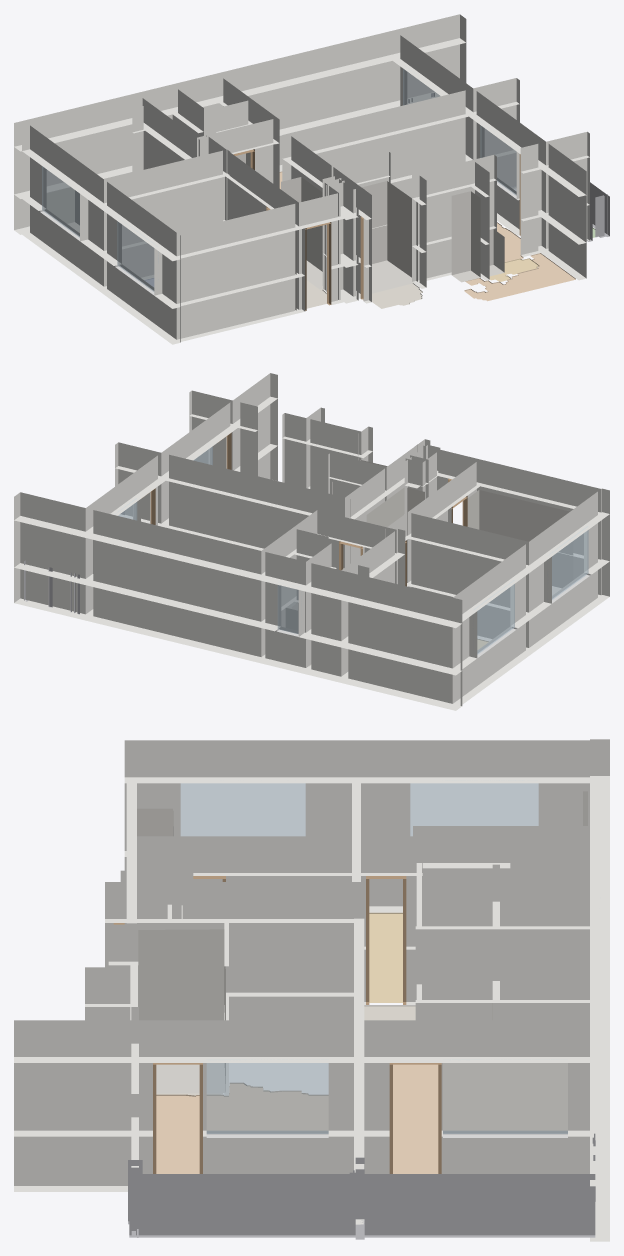
3 renders of one model, top to bottom at view 1: azimuth 30°, elevation 25°; view 2: azimuth 150°, elevation 25°; view 3: azimuth 270°, elevation 25°, orthographic. The views are drawn at different scales.
Parts seen in each view (by area): view 1: walls, furniture_3_closet, furniture_5_closet, floor_10_Living_Room, window_4, window_5, furniture_2_closet, window_8, furniture_6_appliance, railings, floor_11_Entry, window_0 (+4 smaller); view 2: walls, furniture_4_closet, window_5, window_4, furniture_2_closet, window_2, railings; view 3: walls, railings, floor_3_Living_Room, furniture_3_closet, window_0, window_8, floor_9_Living_Room, window_4, window_5, floor_0_Kitchen, door_10, furniture_4_closet (+5 smaller).
Part boxes in pixels (x1=…): walls: x1=14, y1=14, x2=589, y2=344; furniture_3_closet: x1=362, y1=181, x2=417, y2=293; furniture_5_closet: x1=451, y1=191, x2=480, y2=282; floor_10_Living_Room: x1=464, y1=253, x2=575, y2=301; window_4: x1=117, y1=221, x2=158, y2=291; window_5: x1=42, y1=166, x2=79, y2=237; furniture_2_closet: x1=281, y1=177, x2=322, y2=289; window_8: x1=480, y1=125, x2=516, y2=195; furniture_6_appliance: x1=47, y1=187, x2=79, y2=231; railings: x1=408, y1=93, x2=609, y2=241; floor_11_Entry: x1=372, y1=283, x2=422, y2=308; window_0: x1=403, y1=68, x2=439, y2=105; walls: x1=14, y1=373, x2=609, y2=710; furniture_4_closet: x1=467, y1=490, x2=572, y2=595; window_5: x1=473, y1=580, x2=514, y2=654; window_4: x1=547, y1=526, x2=588, y2=599; furniture_2_closet: x1=366, y1=487, x2=424, y2=527; window_2: x1=277, y1=585, x2=298, y2=633; railings: x1=24, y1=511, x2=124, y2=614; walls: x1=14, y1=739, x2=609, y2=1241; railings: x1=128, y1=1133, x2=595, y2=1239; floor_3_Living_Room: x1=393, y1=1063, x2=567, y2=1173; furniture_3_closet: x1=138, y1=929, x2=225, y2=1093; window_0: x1=443, y1=1063, x2=567, y2=1133; window_8: x1=206, y1=1063, x2=328, y2=1133; floor_9_Living_Room: x1=156, y1=1083, x2=328, y2=1173; window_4: x1=180, y1=783, x2=305, y2=836; window_5: x1=410, y1=780, x2=538, y2=836; floor_0_Kitchen: x1=369, y1=912, x2=402, y2=1002; door_10: x1=366, y1=876, x2=406, y2=1004; furniture_4_closet: x1=137, y1=808, x2=173, y2=836.
Bounding box in the file's own units: 11.75 × 2.72 × 8.79.
